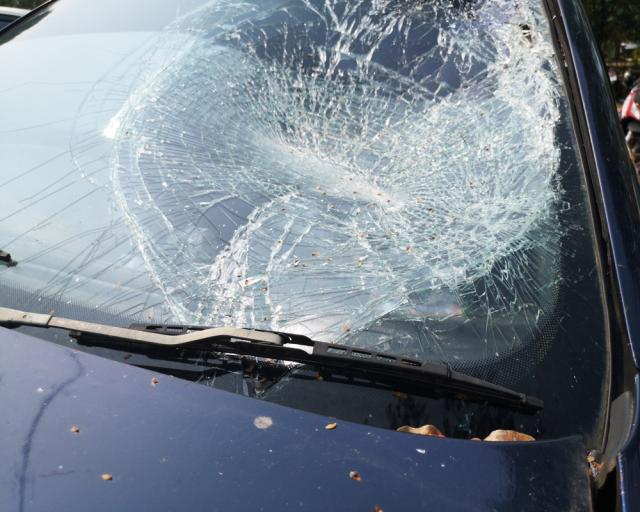glass shatter: (0, 0, 594, 434)
